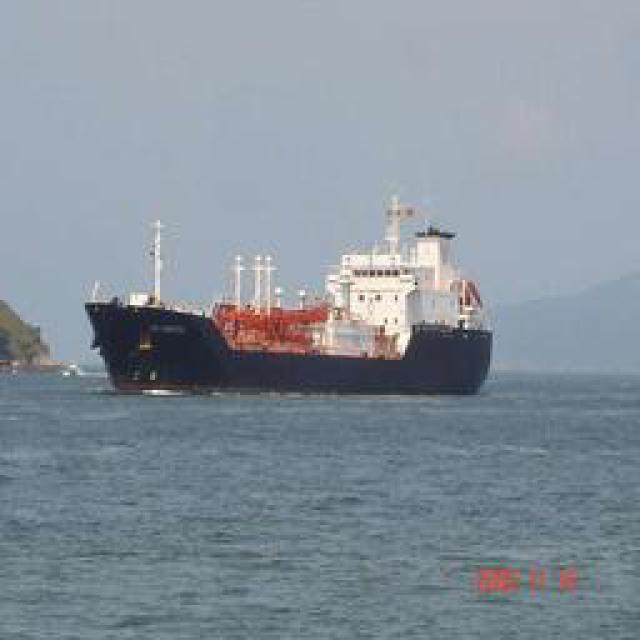Ship: (79, 180, 494, 398)
